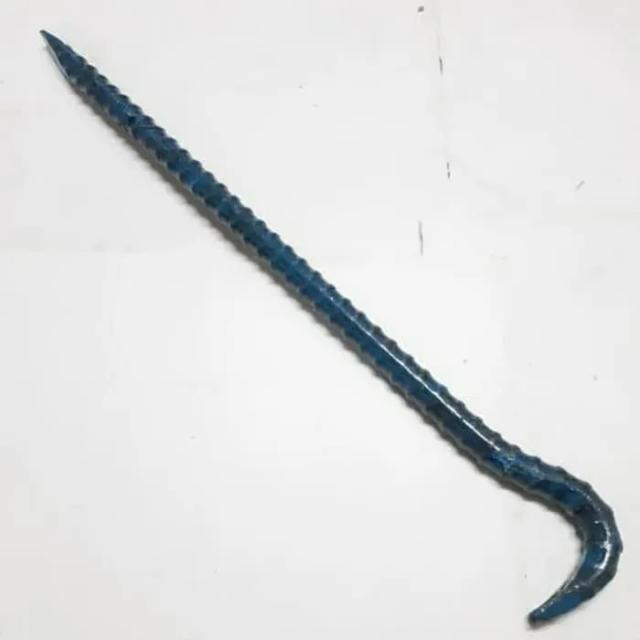Linggis: (36, 26, 624, 628)
